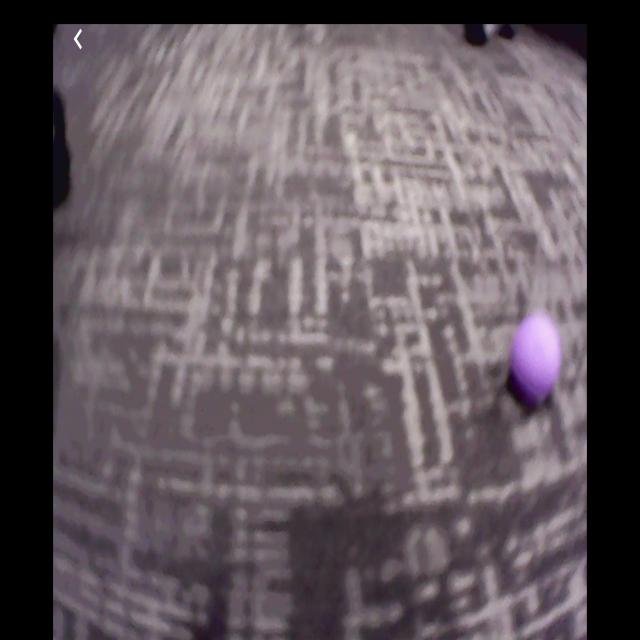ball: (508, 317, 563, 402)
